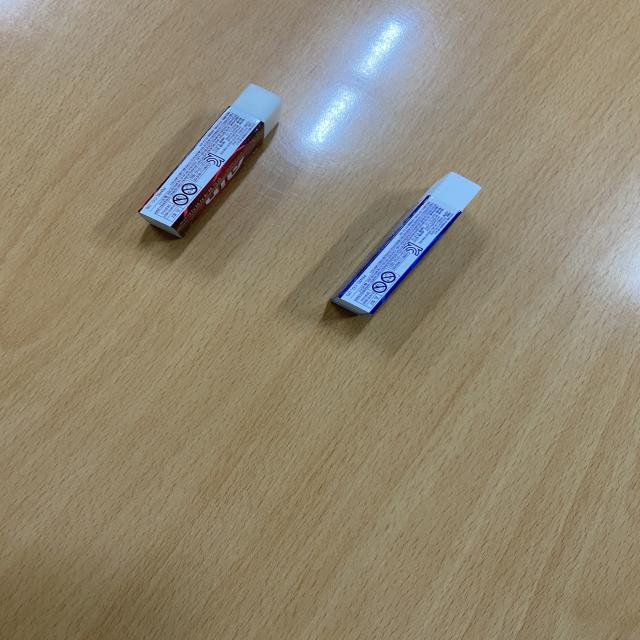blue: (329, 170, 485, 319)
red: (137, 81, 284, 241)
